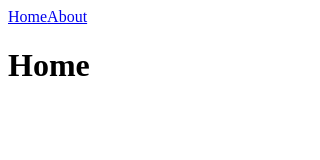
Scenario: navigation blocking with useBlocker › on <Link> navigation › blocker returns false › navigates
Click the link to "/about".
click(67, 16)  # box [47,8,87,25]
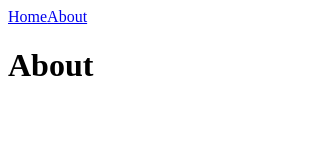
Check: the heading "About" is shown, box [8,47,93,83]
